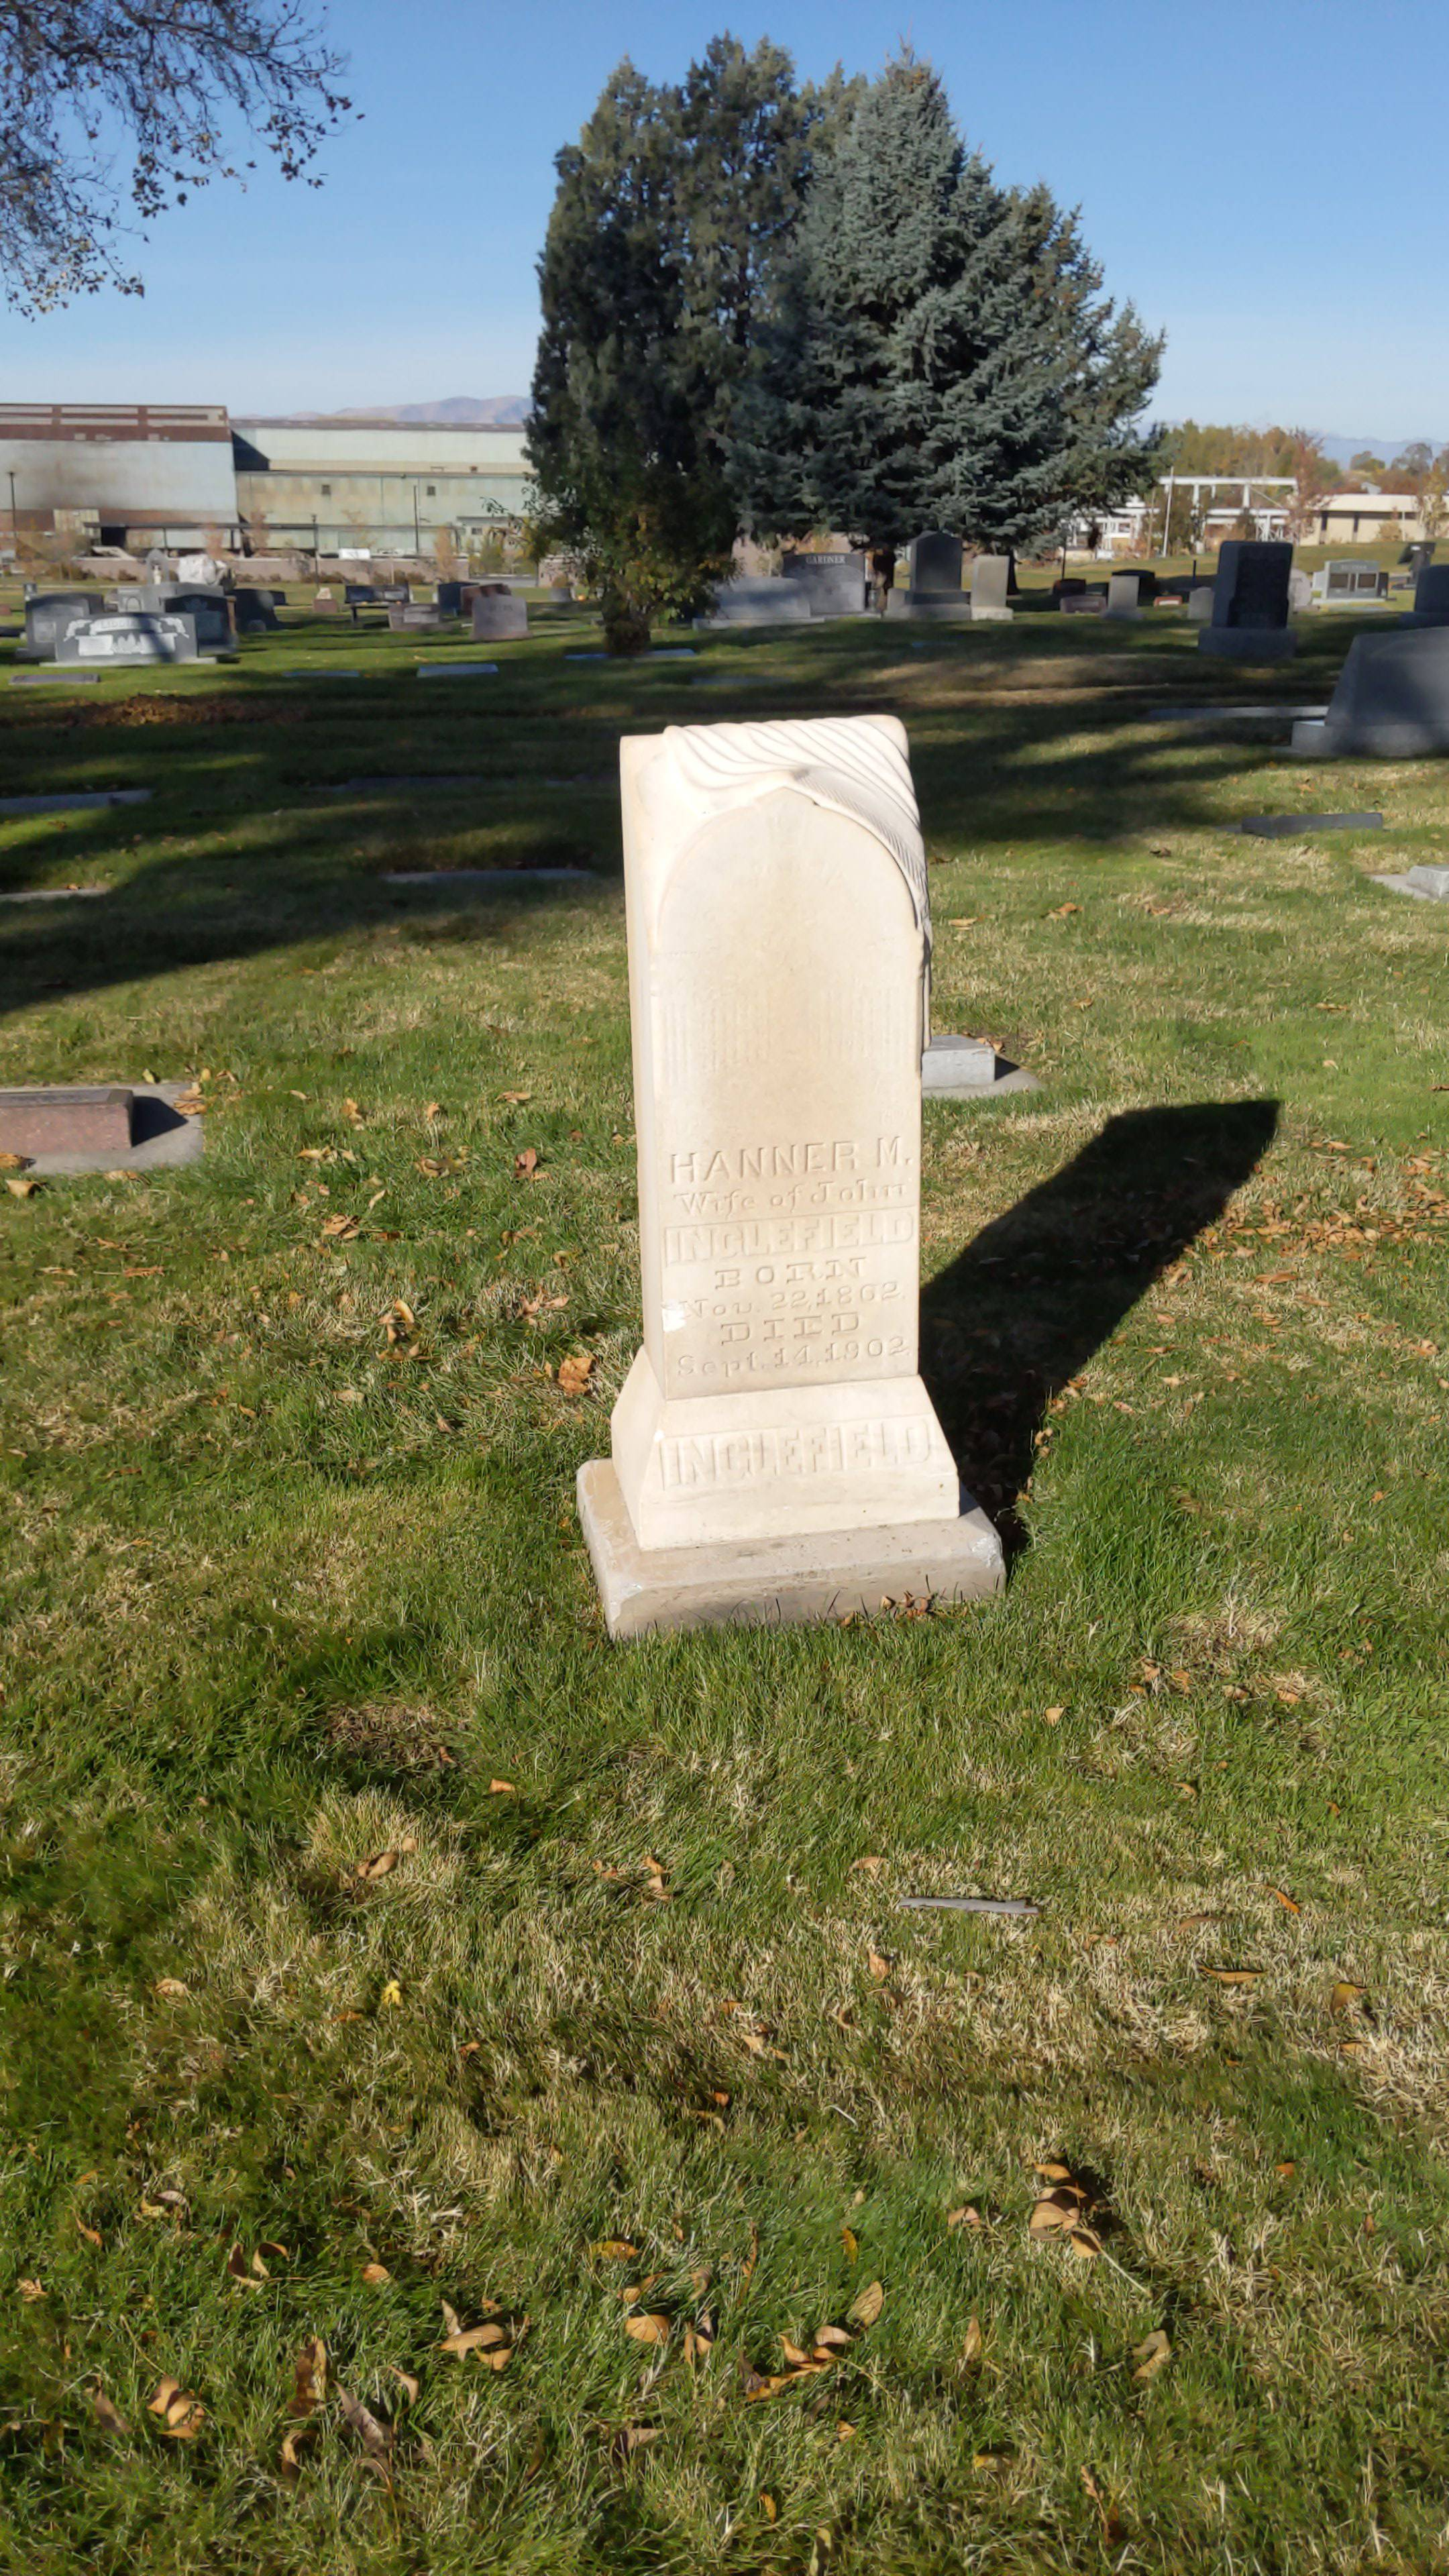obelisk: (605, 702, 964, 1566)
